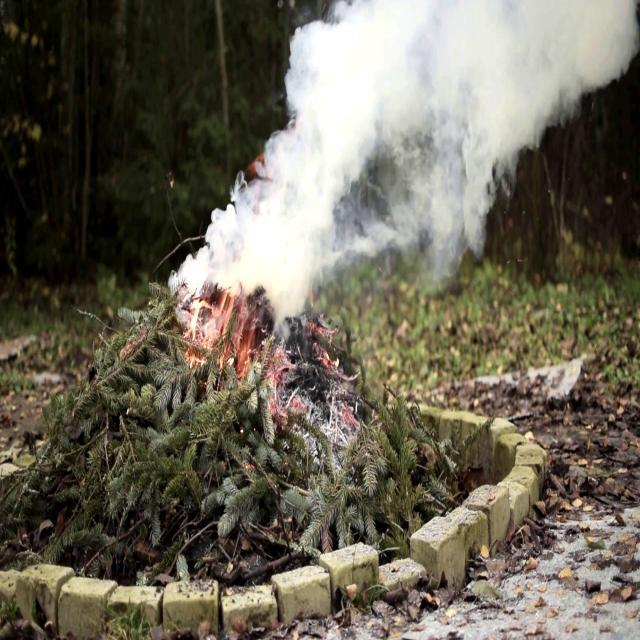Smoke: (170, 0, 620, 307)
